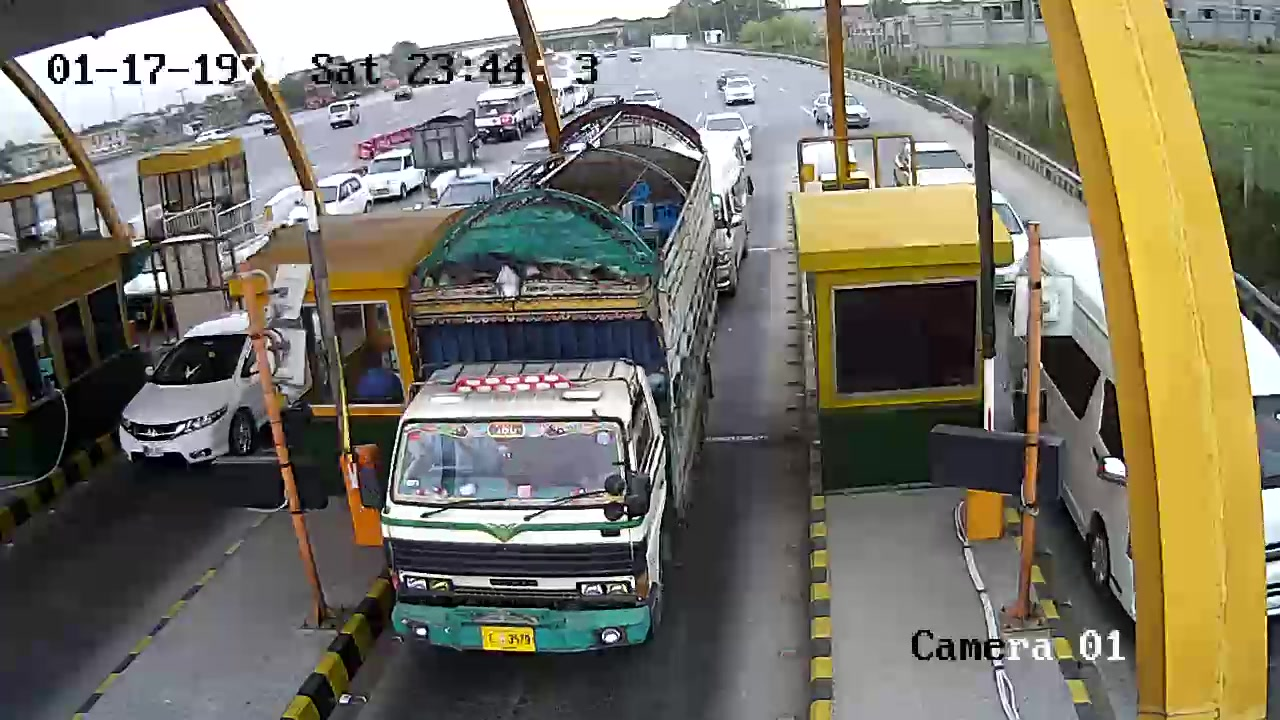F5: (369, 105, 754, 659)
